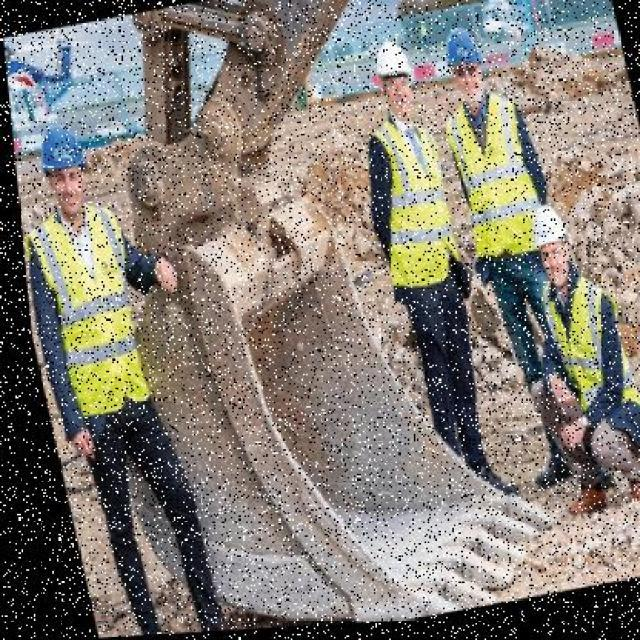helmet: (19, 109, 90, 197), (436, 26, 490, 88), (363, 36, 411, 98), (522, 206, 560, 263)
vest: (437, 91, 591, 417), (18, 194, 170, 445), (359, 102, 470, 314), (529, 279, 636, 454)
